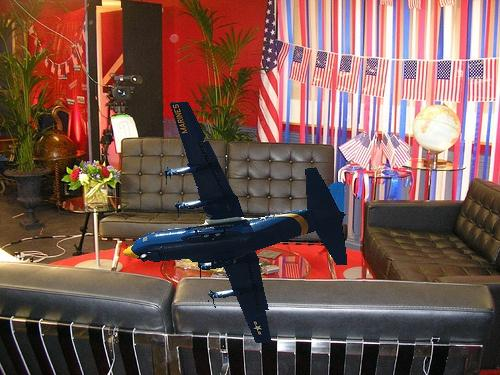tampered: (124, 103, 347, 343)
